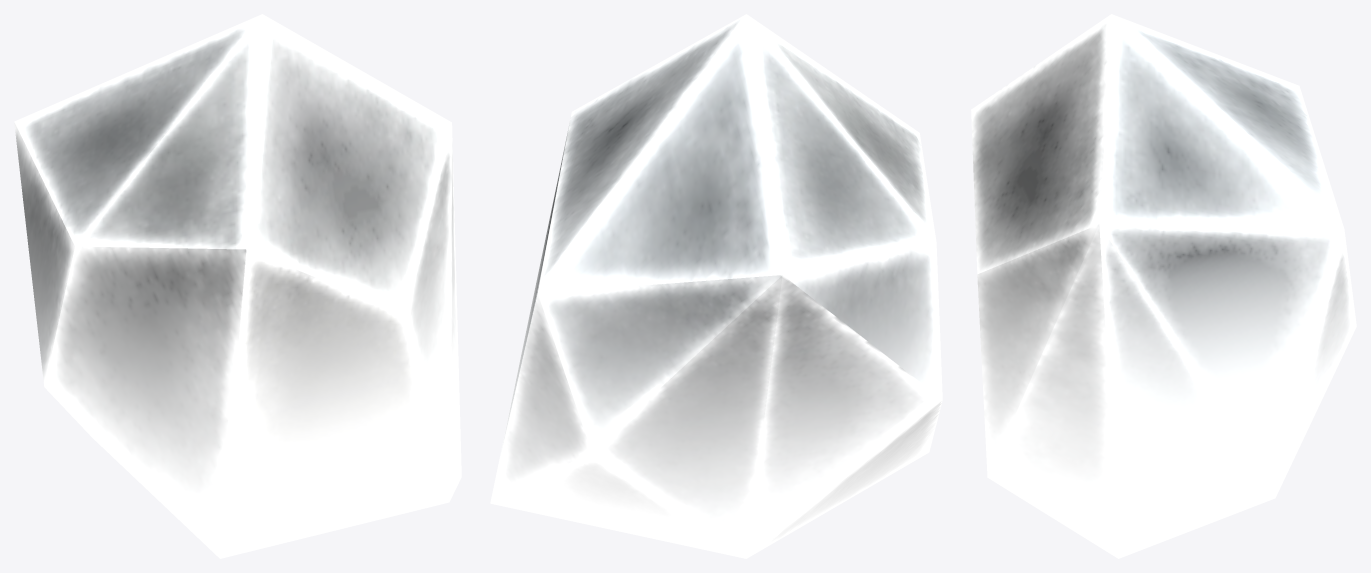
File: crystal_piece_004.fbx
The picture shows the model from 3 angles, left to right: view 1: azimuth 30°, elevation 25°; view 2: azimuth 150°, elevation 25°; view 3: azimuth 270°, elevation 25°; orthographic projection. The views are drawn at different scales.
Visible parts, largest first — view 1: crystal_piece_004; view 2: crystal_piece_004; view 3: crystal_piece_004.
Part boxes in pixels (<box>): crystal_piece_004: <box>14,14,461,558</box>; crystal_piece_004: <box>490,14,942,558</box>; crystal_piece_004: <box>971,14,1356,558</box>.
Bounding box in the file's own units: 0.6343 × 0.76 × 0.5813.
